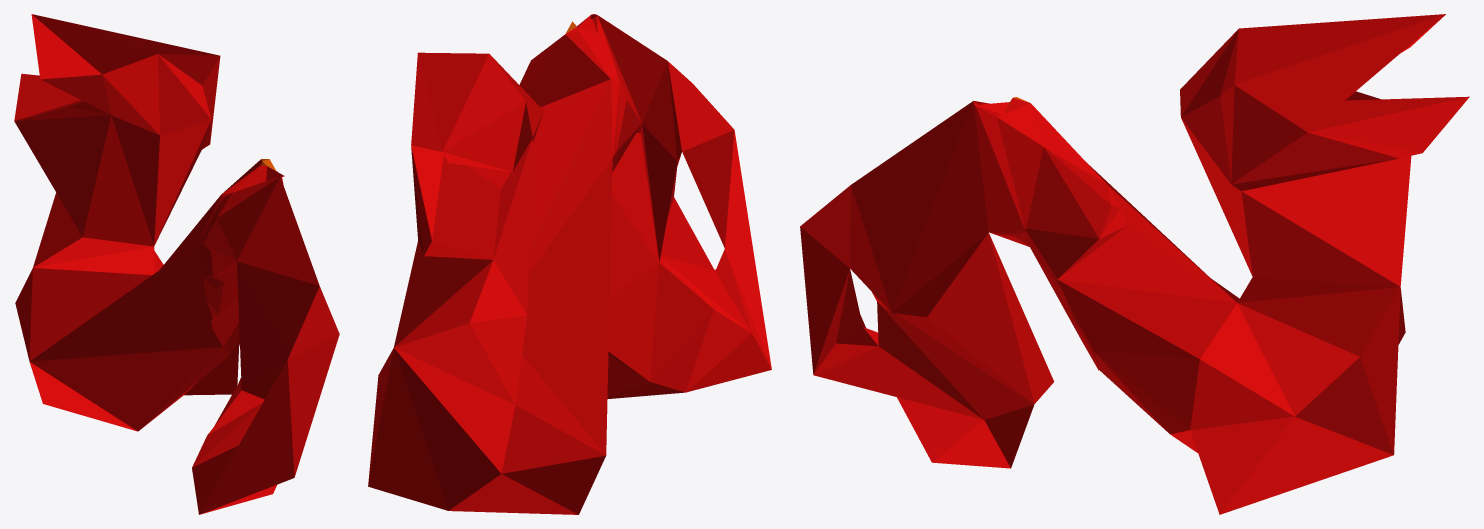
The model's file is Dragon_80K_L9.fbx.
3 views of the same model, side by side, from view 1: azimuth 30°, elevation 25°; view 2: azimuth 150°, elevation 25°; view 3: azimuth 270°, elevation 25° (orthographic). The views are drawn at different scales.
Size of the model in its own units: 0.3367 by 0.6168 by 0.8459.
